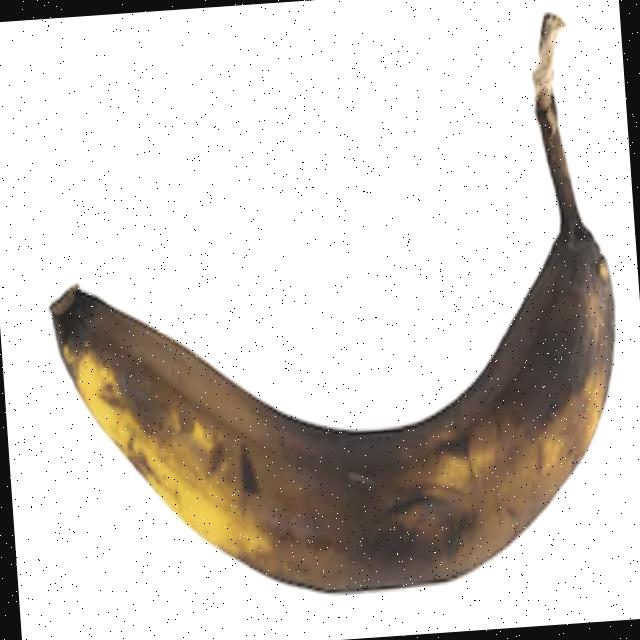rotten banana: (5, 30, 640, 640)
